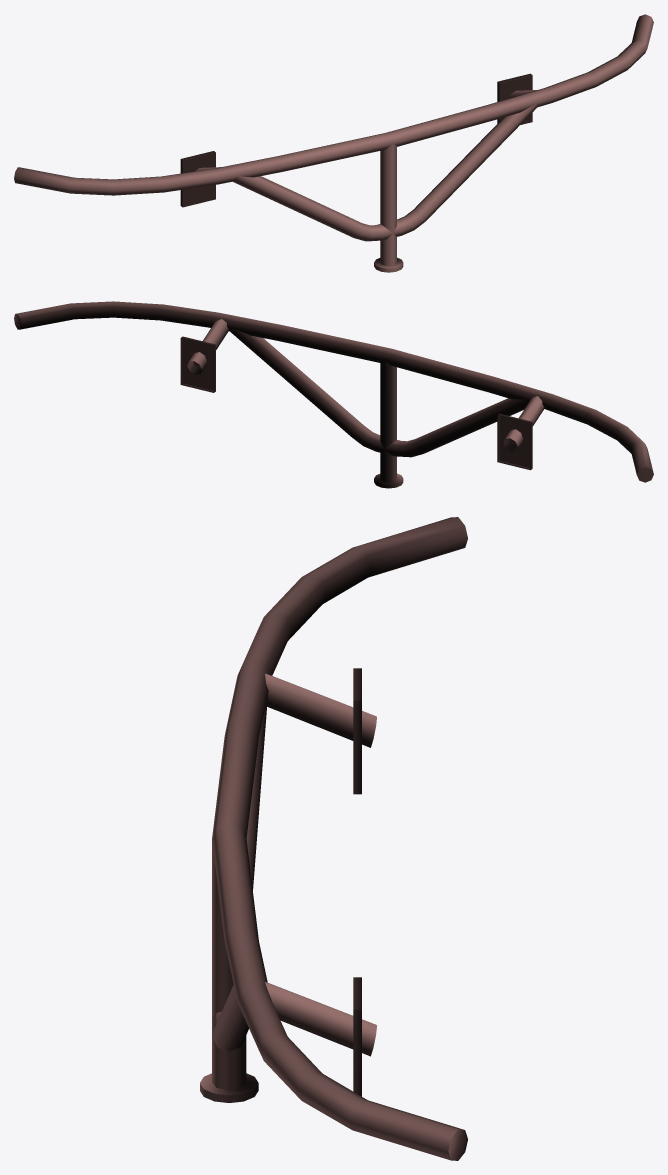
File: G37_FB_BB01_Trim.fbx
3 views of the same model, one above another, from view 1: azimuth 30°, elevation 25°; view 2: azimuth 150°, elevation 25°; view 3: azimuth 270°, elevation 25° (orthographic). The views are drawn at different scales.
Parts seen in each view (by area): view 1: G37_FB_BB01_Trim; view 2: G37_FB_BB01_Trim; view 3: G37_FB_BB01_Trim.
Part boxes in pixels (x1,y1,x2,y2): G37_FB_BB01_Trim: (14,14,653,272); G37_FB_BB01_Trim: (14,301,653,488); G37_FB_BB01_Trim: (200,517,467,1160).
Bounding box in the file's own units: 172 × 34.24 × 31.14.
